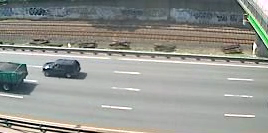car: (41, 58, 82, 82)
